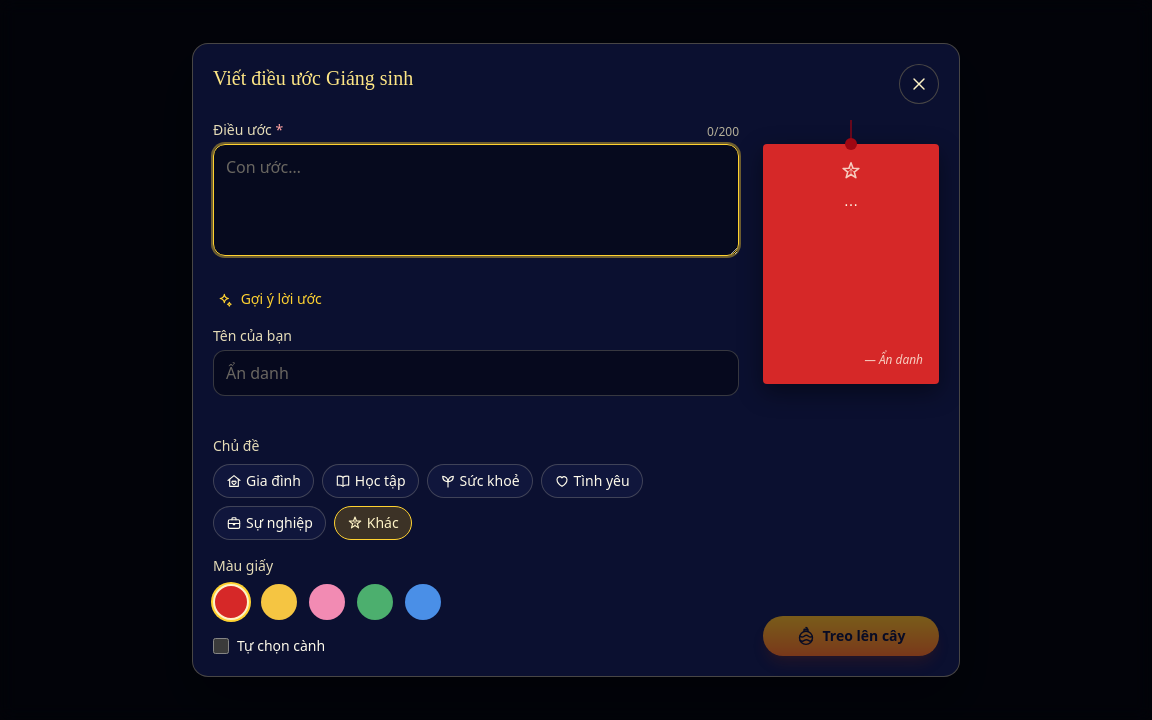
Test: WishComposer (002) › AC-002-04: xem trước theo màu và nội dung
Click the radio button named "Vàng" at (279, 602), box [261,584,297,620]
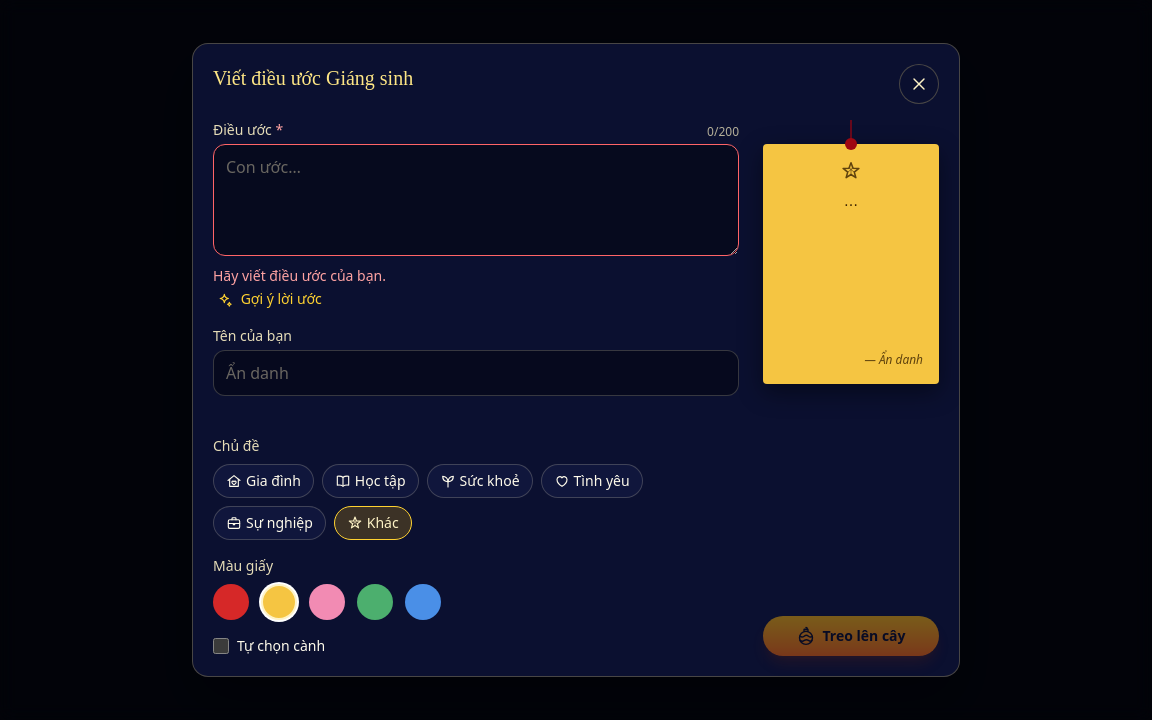
Type "Mẹ khoẻ" into the text box labelled "Điều ước *" at (476, 200), box [213,144,739,256]
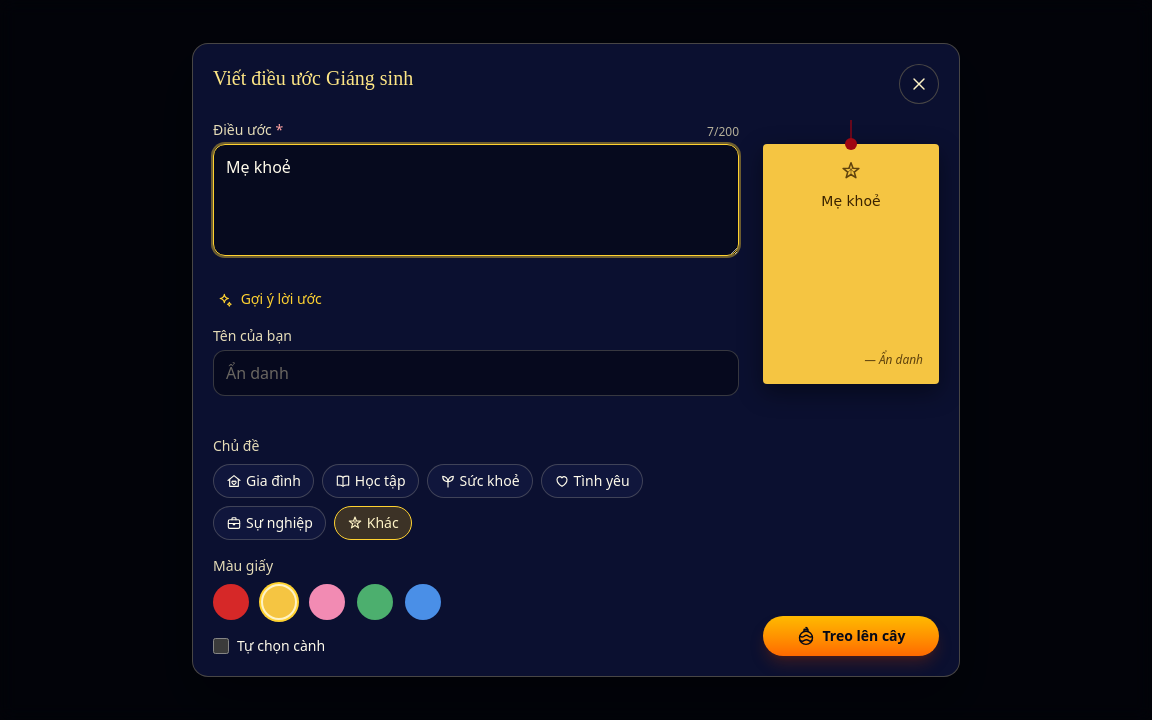
Result: the element named "Xem trước" shows "Mẹ khoẻ" at [821,193,881,209]
